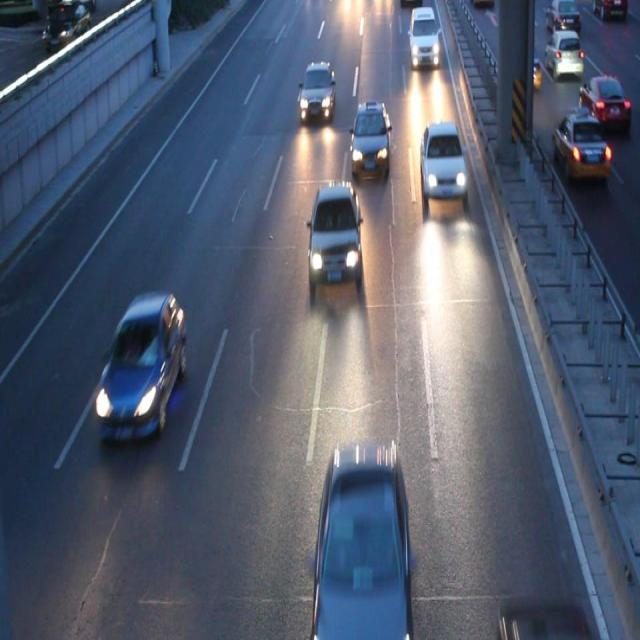car: (314, 446, 409, 629), (101, 292, 185, 436), (307, 185, 360, 278), (551, 115, 608, 172), (420, 124, 465, 194), (350, 101, 390, 169), (578, 76, 628, 124), (298, 62, 334, 116), (545, 31, 582, 73), (502, 44, 538, 86), (545, 1, 578, 30), (471, 1, 492, 10)
truck: (409, 8, 437, 64)
